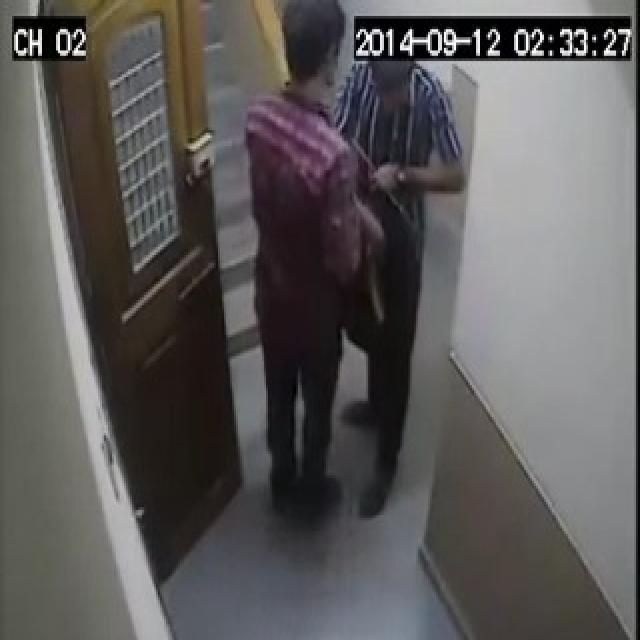thief: (242, 3, 453, 523)
